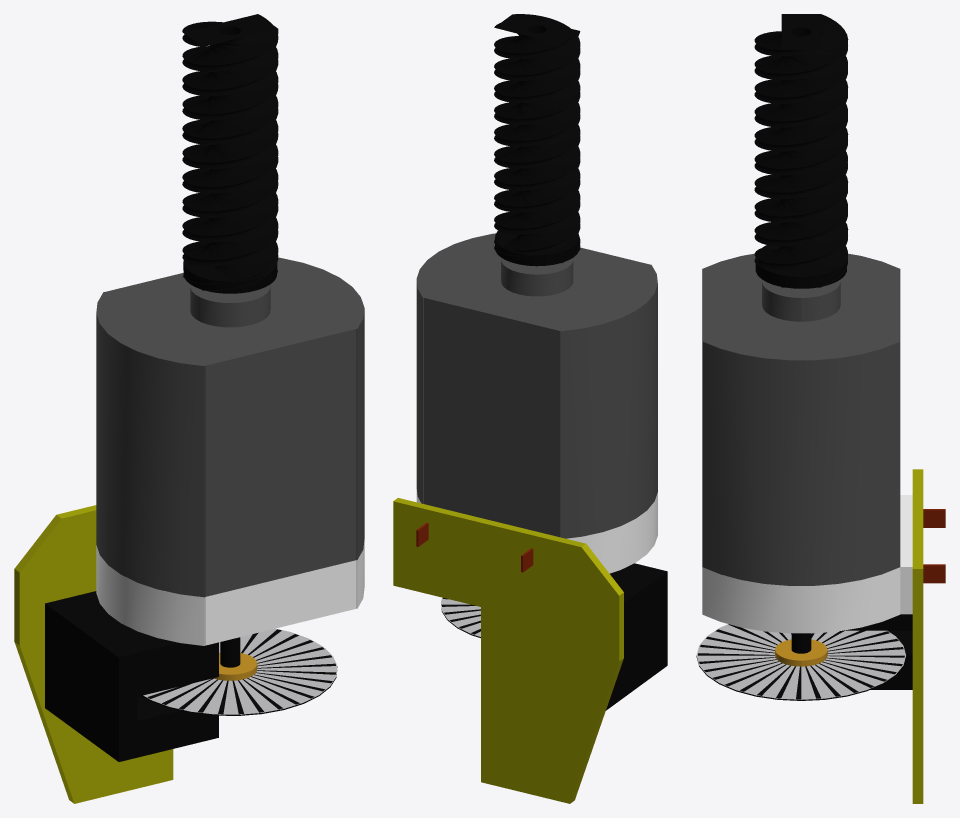
File: fc-dc-mabuchi-enc.glb
3 views of the same model, side by side, from view 1: azimuth 30°, elevation 25°; view 2: azimuth 150°, elevation 25°; view 3: azimuth 270°, elevation 25° (orthographic). The views are drawn at different scales.
Visible parts, largest first — view 1: 0.08333333333333333_0.08333333333333333_0.08333333333333333_, 0_0_0_0, 0.4166666666666667_0.4166666666666667_0_0, 1_1_1_0.85, 0.5833333333333334_0.5833333333333334_0.5833333333333334_0.8, 0.5833333333333334_0.25_0_0; view 2: 0.08333333333333333_0.08333333333333333_0.08333333333333333_, 0.4166666666666667_0.4166666666666667_0_0, 0_0_0_0, 1_1_1_0.85, 0.5833333333333334_0.5833333333333334_0.5833333333333334_0.8; view 3: 0.08333333333333333_0.08333333333333333_0.08333333333333333_, 0_0_0_0, 1_1_1_0.85, 0.5833333333333334_0.5833333333333334_0.5833333333333334_0.8, 0.4166666666666667_0.4166666666666667_0_0, 0.5833333333333334_0.25_0_0, 0.25_0_0_0.
Part boxes in pixels (bbox=[...]): 0.08333333333333333_0.08333333333333333_0.08333333333333333_: bbox=[96, 257, 364, 597]; 0_0_0_0: bbox=[45, 14, 337, 761]; 0.4166666666666667_0.4166666666666667_0_0: bbox=[14, 505, 173, 803]; 1_1_1_0.85: bbox=[96, 539, 364, 645]; 0.5833333333333334_0.5833333333333334_0.5833333333333334_0.8: bbox=[143, 628, 337, 714]; 0.5833333333333334_0.25_0_0: bbox=[214, 653, 257, 680]; 0.08333333333333333_0.08333333333333333_0.08333333333333333_: bbox=[416, 233, 657, 538]; 0.4166666666666667_0.4166666666666667_0_0: bbox=[393, 498, 623, 803]; 0_0_0_0: bbox=[441, 14, 667, 710]; 1_1_1_0.85: bbox=[416, 489, 657, 573]; 0.5833333333333334_0.5833333333333334_0.5833333333333334_0.8: bbox=[441, 597, 480, 636]; 0.08333333333333333_0.08333333333333333_0.08333333333333333_: bbox=[702, 253, 900, 585]; 0_0_0_0: bbox=[696, 14, 912, 700]; 1_1_1_0.85: bbox=[702, 495, 912, 633]; 0.5833333333333334_0.5833333333333334_0.5833333333333334_0.8: bbox=[696, 624, 905, 699]; 0.4166666666666667_0.4166666666666667_0_0: bbox=[912, 469, 923, 803]; 0.5833333333333334_0.25_0_0: bbox=[775, 639, 827, 666]; 0.25_0_0_0: bbox=[923, 509, 945, 583].
Size of the model in its own units: 2.32 by 6.5 by 1.9.
